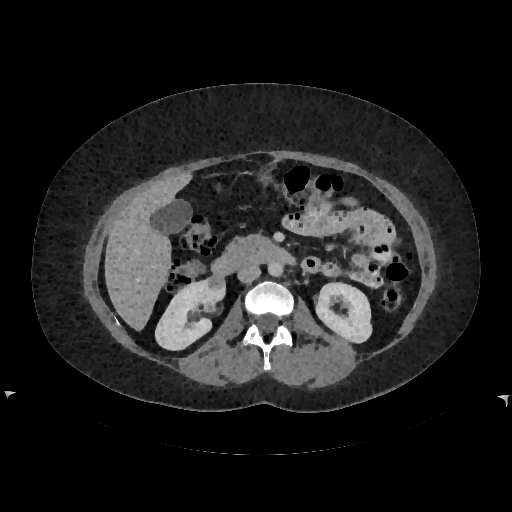Lesion: (203, 271, 227, 291)
